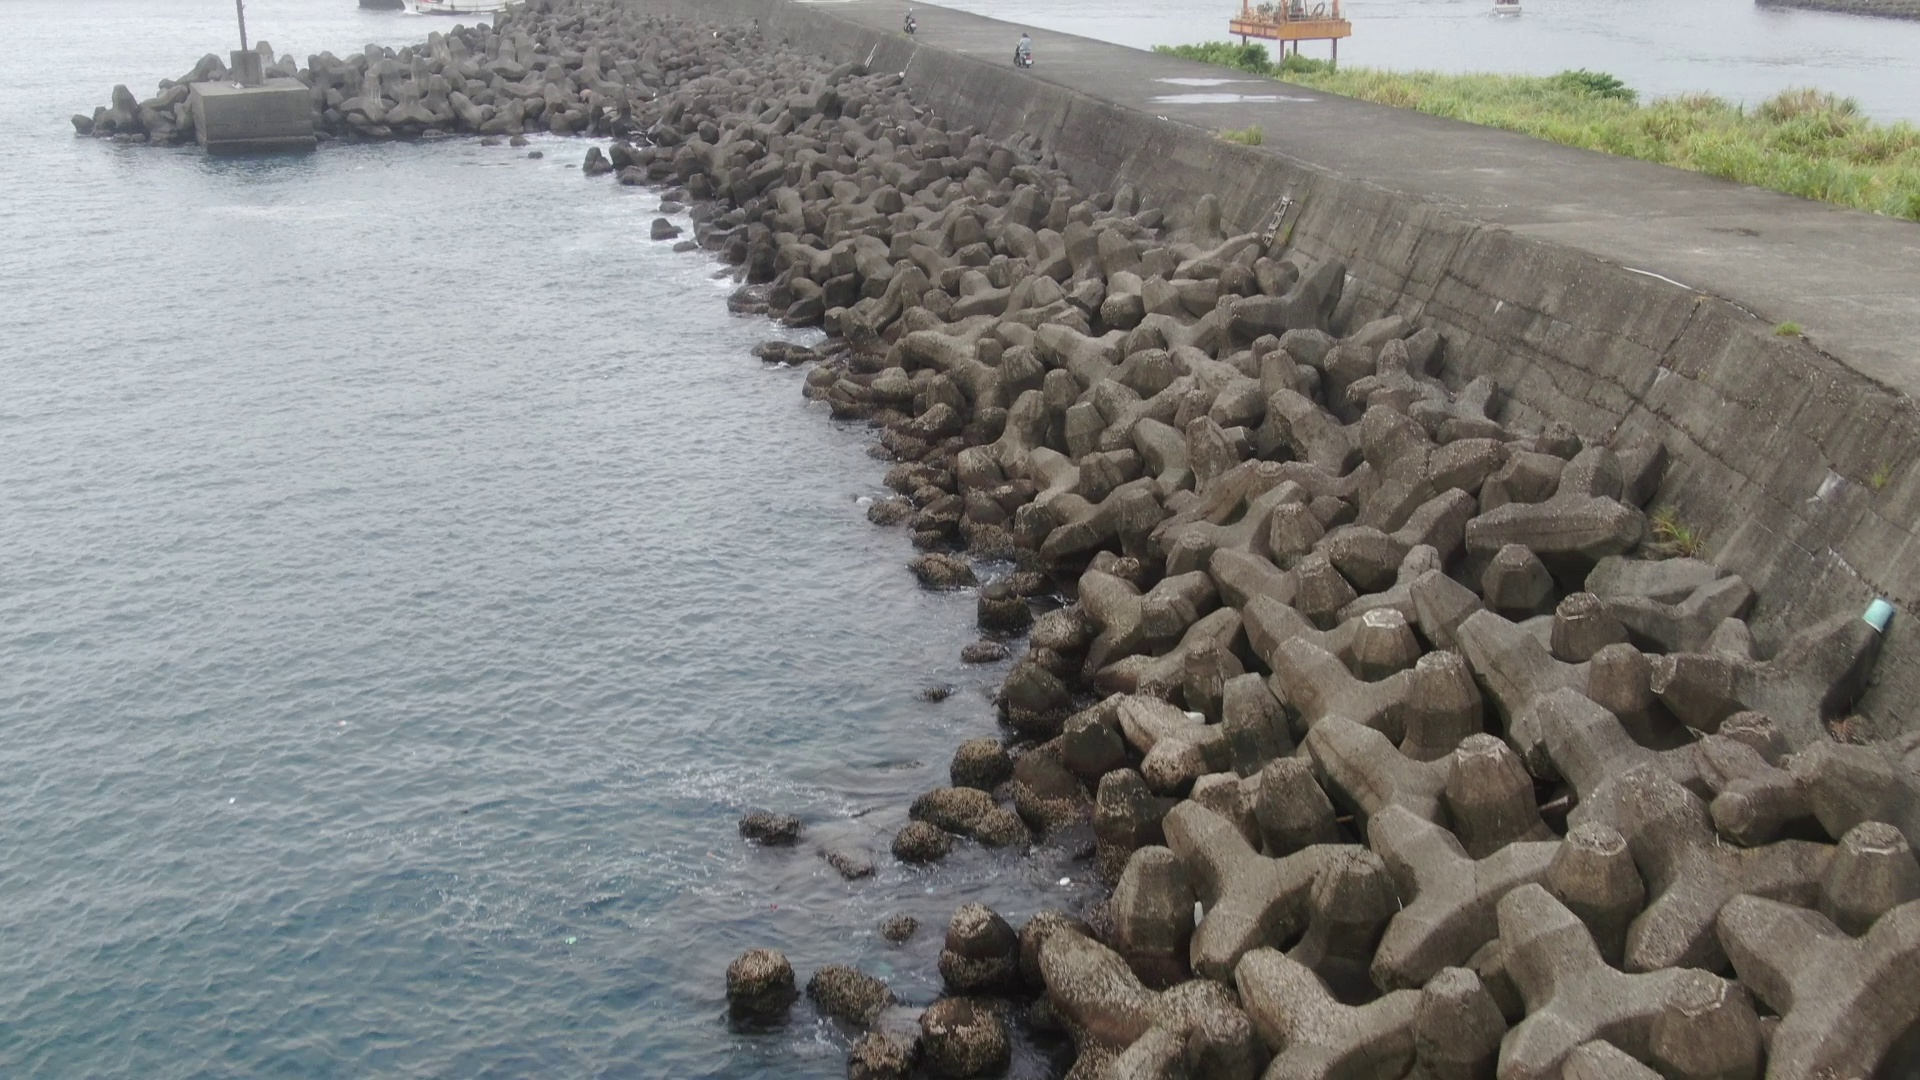garbage: (1861, 595, 1898, 638)
